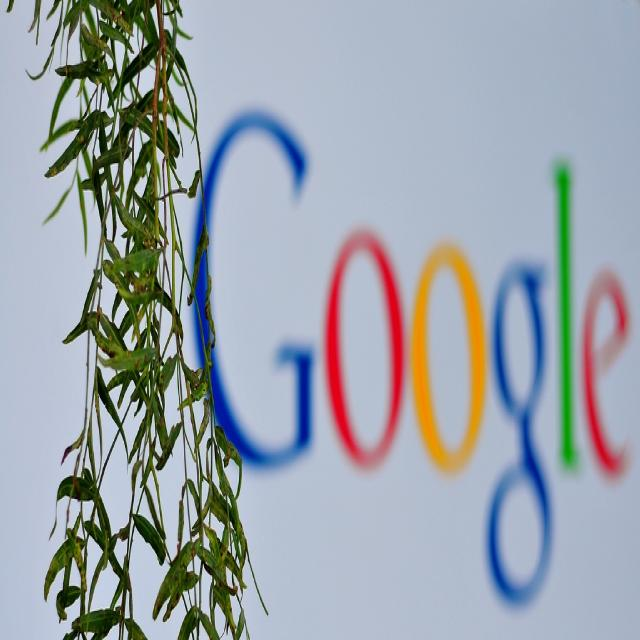google: (189, 101, 640, 620)
